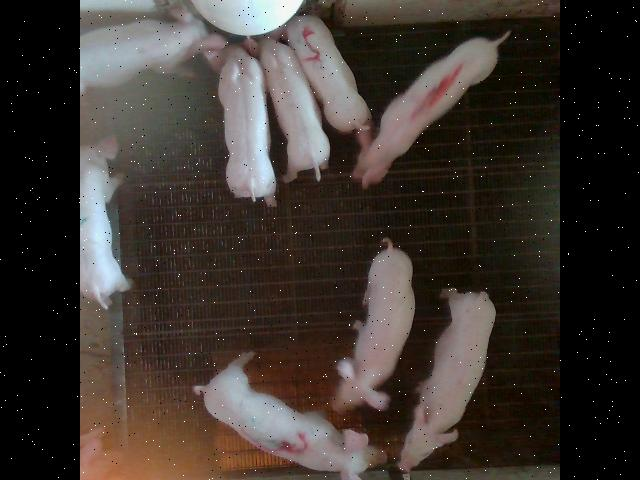pig-1: (353, 31, 510, 186)
pig-3: (194, 351, 385, 480)
pig-5: (287, 15, 371, 144)
